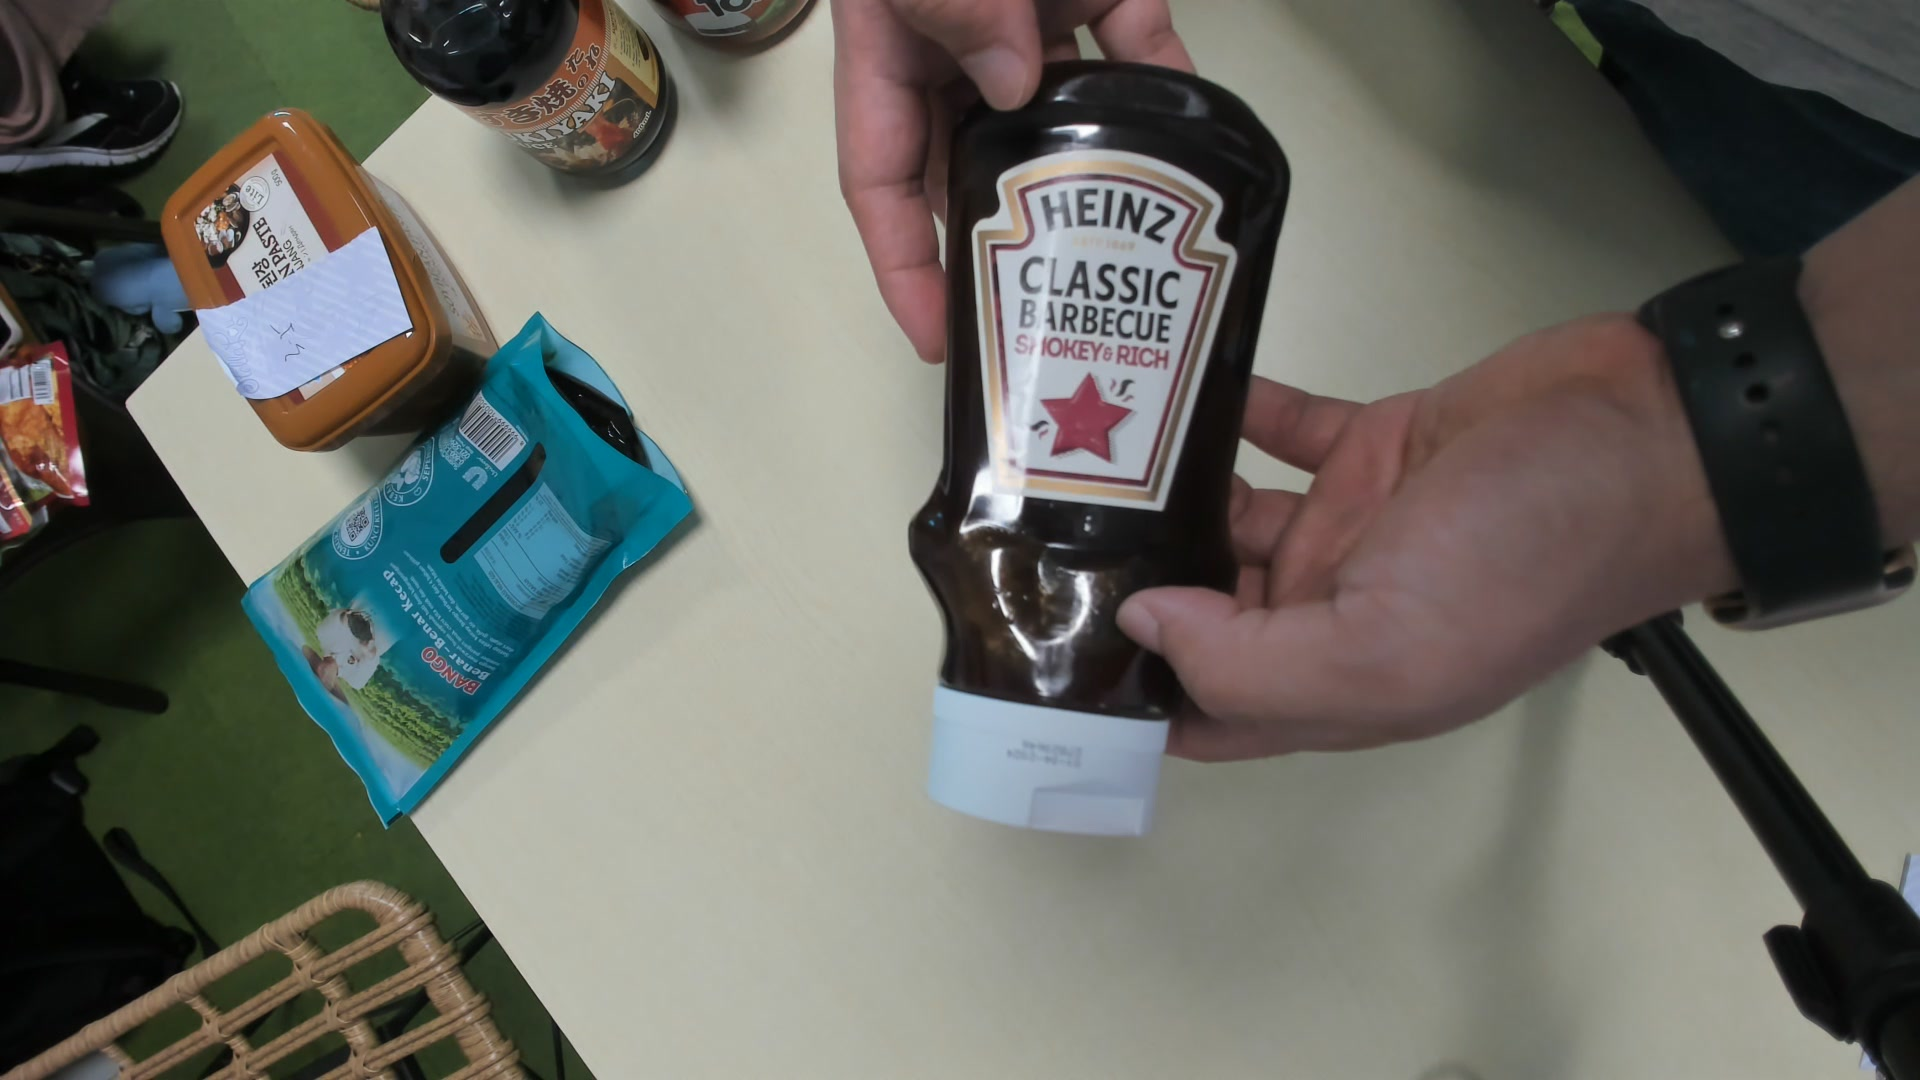OtherSauceDressing_400-499g_NonHalal_NonHealthy: (905, 65, 1290, 851)
